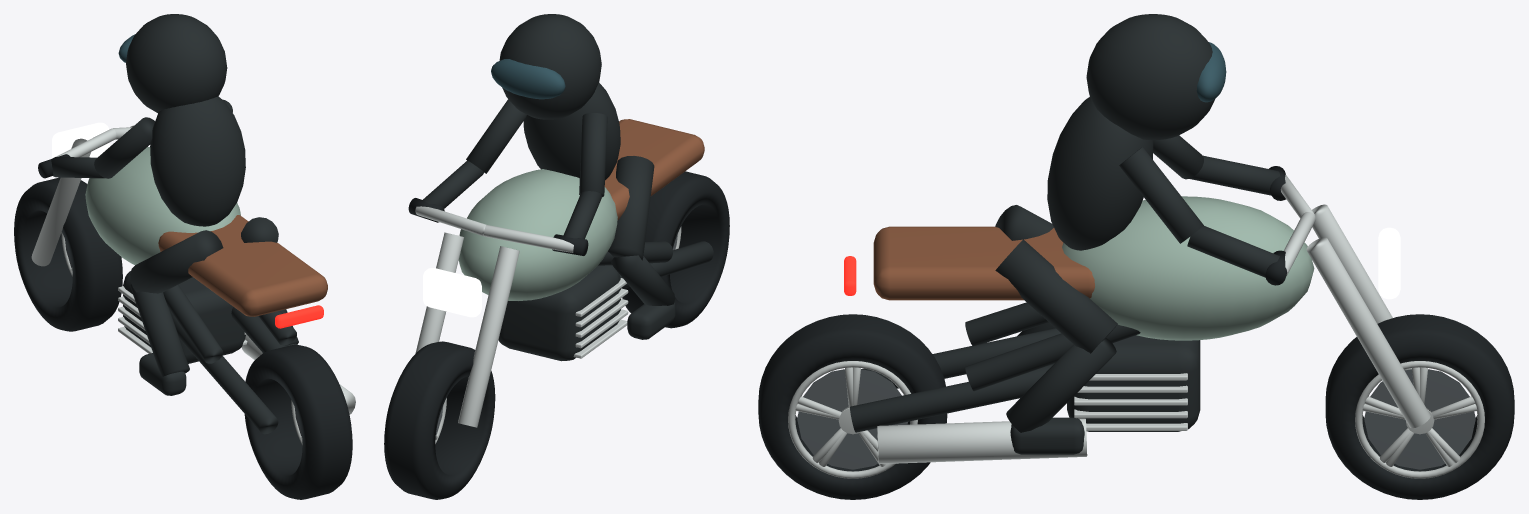
The model's file is storm-moto.glb.
The picture shows the model from 3 angles, left to right: view 1: azimuth 30°, elevation 25°; view 2: azimuth 150°, elevation 25°; view 3: azimuth 270°, elevation 25°; orthographic projection. The views are drawn at different scales.
Visible parts, largest first — view 1: storm-moto_Graphite, Spin_R_Rubber, Spin_F_Rubber, storm-moto_Saddle upholstery, storm-moto_Paint, storm-moto_Satin aluminium, storm-moto_Headlamp, storm-moto_Tail lamp; view 2: storm-moto_Graphite, Spin_F_Rubber, storm-moto_Paint, storm-moto_Satin aluminium, Spin_R_Rubber, storm-moto_Saddle upholstery, storm-moto_Headlamp, storm-moto_Smoked glass, storm-moto_Rubber; view 3: storm-moto_Graphite, storm-moto_Paint, storm-moto_Satin aluminium, Spin_F_Rubber, Spin_R_Rubber, storm-moto_Saddle upholstery, Spin_F_WheelFinish, Spin_F_Brake steel, Spin_R_Brake steel, Spin_R_WheelFinish, storm-moto_Headlamp, storm-moto_Smoked glass (+1 smaller).
Boxes of the visible parts, x1,y1,x2,y2 form: storm-moto_Graphite: (51, 14, 298, 434); Spin_R_Rubber: (244, 344, 352, 499); Spin_F_Rubber: (14, 177, 122, 331); storm-moto_Saddle upholstery: (158, 215, 327, 316); storm-moto_Paint: (85, 147, 240, 264); storm-moto_Satin aluminium: (31, 125, 355, 414); storm-moto_Headlamp: (52, 122, 109, 158); storm-moto_Tail lamp: (275, 305, 323, 328); storm-moto_Graphite: (422, 14, 713, 361); Spin_F_Rubber: (384, 341, 495, 499); storm-moto_Paint: (458, 169, 617, 300); storm-moto_Satin aluminium: (415, 206, 628, 427); Spin_R_Rubber: (622, 171, 729, 328); storm-moto_Saddle upholstery: (604, 119, 704, 219); storm-moto_Headlamp: (423, 268, 481, 317); storm-moto_Smoked glass: (491, 59, 565, 99); storm-moto_Rubber: (408, 198, 588, 255); storm-moto_Graphite: (850, 14, 1280, 454); storm-moto_Paint: (1062, 196, 1314, 340); storm-moto_Satin aluminium: (877, 174, 1430, 464); Spin_F_Rubber: (1325, 314, 1514, 499); Spin_R_Rubber: (758, 314, 947, 499); storm-moto_Saddle upholstery: (873, 226, 1094, 300); Spin_F_WheelFinish: (1355, 361, 1484, 478); Spin_F_Brake steel: (1364, 369, 1475, 469); Spin_R_Brake steel: (797, 369, 907, 469); Spin_R_WheelFinish: (788, 361, 917, 478); storm-moto_Headlamp: (1378, 227, 1400, 299); storm-moto_Smoked glass: (1196, 42, 1226, 102).
Bounding box in the file's own units: 0.8705 × 1.88 × 2.72.
